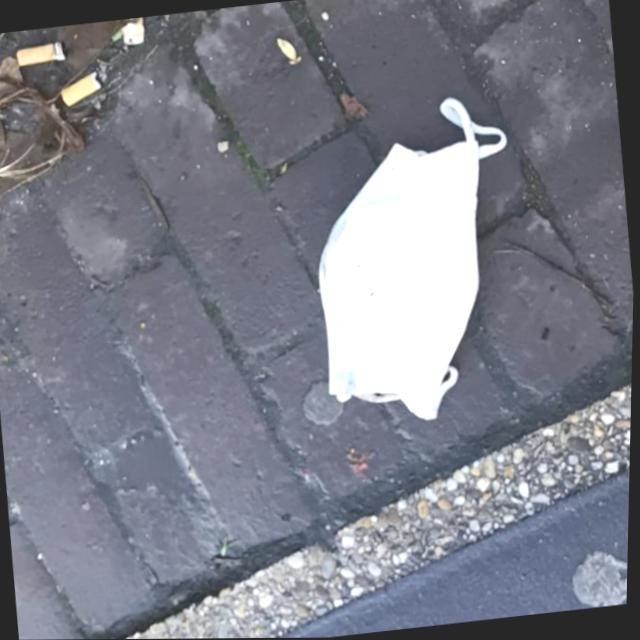Mask: (292, 86, 539, 437)
